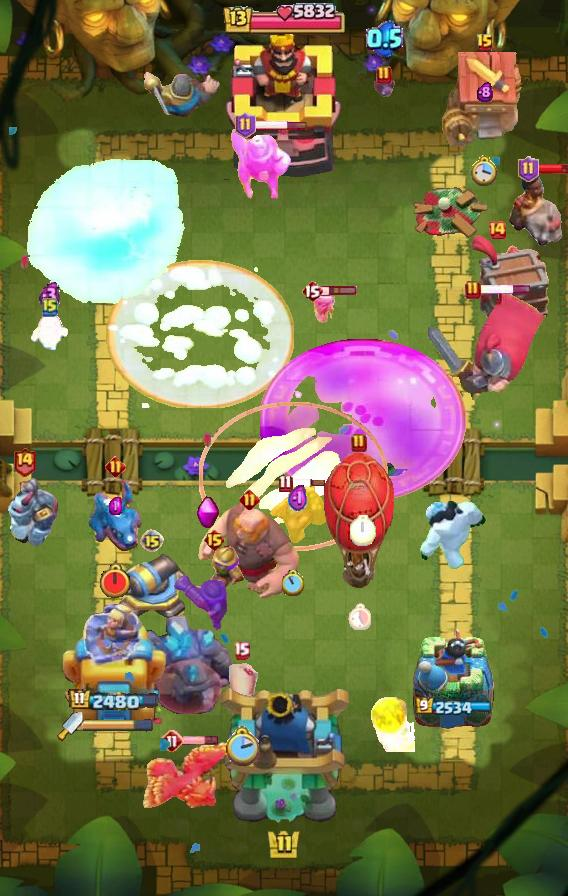balloon: (195, 501, 303, 601)
bandit: (229, 125, 293, 203), (269, 479, 327, 547)
bar: (59, 595, 169, 731)
barbarian-barrel: (371, 78, 397, 98)
bat: (29, 312, 71, 354)
bomb-tower: (182, 542, 246, 608), (173, 573, 229, 631)
cannon-cart: (323, 452, 395, 592)
cannoneer-tower: (136, 614, 236, 714)
clock: (221, 0, 347, 40)
dart-goblin: (468, 234, 550, 328)
electro-spirit: (365, 20, 402, 57), (39, 281, 61, 310), (288, 484, 308, 514), (477, 82, 493, 102), (109, 497, 122, 515)
elite-barbarian: (508, 171, 568, 247)
elixir: (224, 726, 259, 766), (98, 564, 132, 601), (471, 154, 499, 186), (350, 515, 376, 546), (349, 602, 372, 630), (283, 570, 306, 596)
elixir-golem-small: (0, 477, 60, 547)
emote: (254, 120, 308, 132), (479, 285, 532, 296), (322, 285, 359, 297), (182, 735, 219, 746), (536, 163, 568, 175), (290, 478, 326, 488)
firecracker: (139, 71, 225, 123)
giant: (224, 662, 258, 720)
goblin: (311, 289, 339, 325)
graveyard: (86, 479, 144, 553)
ice-wizard: (200, 401, 389, 551)
king-tower: (216, 684, 352, 826), (224, 29, 344, 181)
king-tower-bar: (83, 719, 153, 733)
knight-evolution: (260, 338, 466, 502)
mega-knight: (22, 158, 188, 308)
mother-witch: (139, 740, 233, 814)
phoenix-big: (106, 260, 294, 408)
queen-tower: (411, 627, 495, 731)
rage: (416, 499, 488, 571)
royal-recruit: (116, 543, 188, 627)
selected: (68, 687, 160, 713), (416, 697, 493, 717)
skeleton-king-skill: (195, 496, 220, 530)
sparky: (442, 51, 528, 149)
text: (12, 447, 37, 477), (140, 529, 164, 553), (160, 729, 184, 753), (203, 528, 226, 552), (236, 112, 257, 138), (517, 156, 538, 182), (301, 279, 323, 303), (105, 455, 126, 476), (240, 490, 261, 511), (487, 220, 507, 240), (476, 33, 494, 53), (233, 640, 250, 659), (376, 65, 392, 85), (465, 280, 481, 300), (42, 297, 58, 317), (351, 433, 367, 453), (279, 475, 293, 494)
valkyrie: (367, 696, 415, 752)
wall-breaker-evolution: (425, 287, 548, 401)
